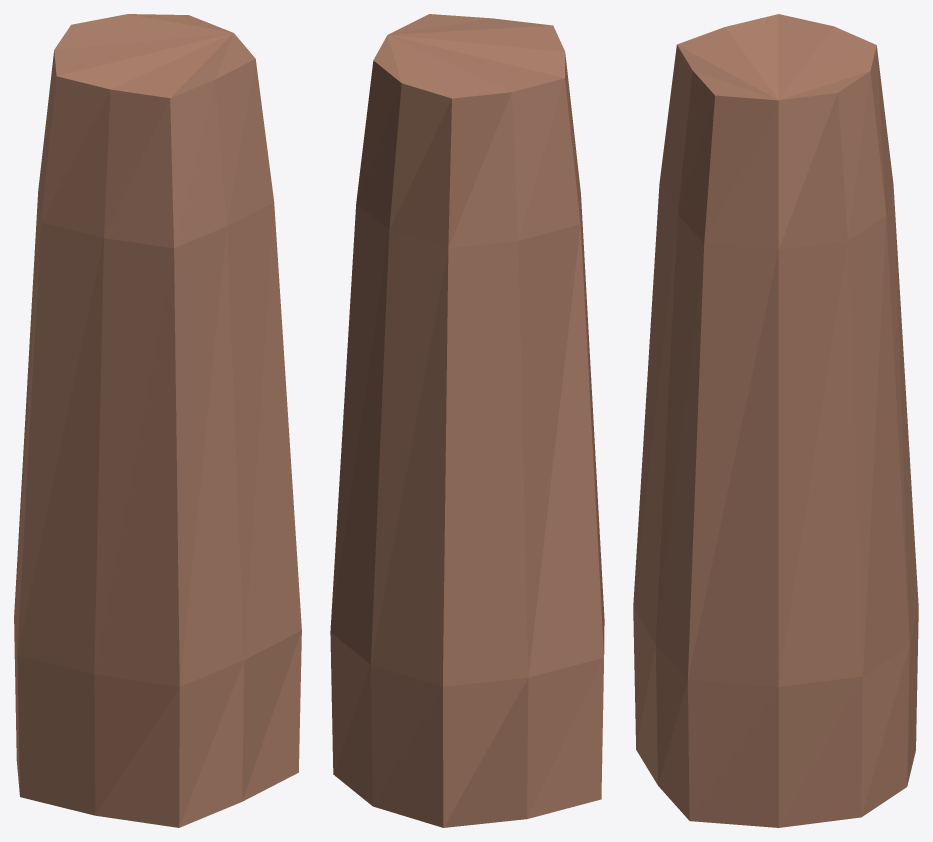
The model's file is red_rock_spires.glb.
3 views of the same model, side by side, from view 1: azimuth 30°, elevation 25°; view 2: azimuth 150°, elevation 25°; view 3: azimuth 270°, elevation 25° (orthographic).
Visible parts, largest first — view 1: spire_1; view 2: spire_1; view 3: spire_1.
Boxes of the visible parts, box(x1,y1,x2,y2) form: spire_1: box(14, 14, 301, 827); spire_1: box(330, 14, 604, 827); spire_1: box(633, 14, 918, 827).
Bounding box in the file's own units: 0.9499 × 2.55 × 0.9285.
